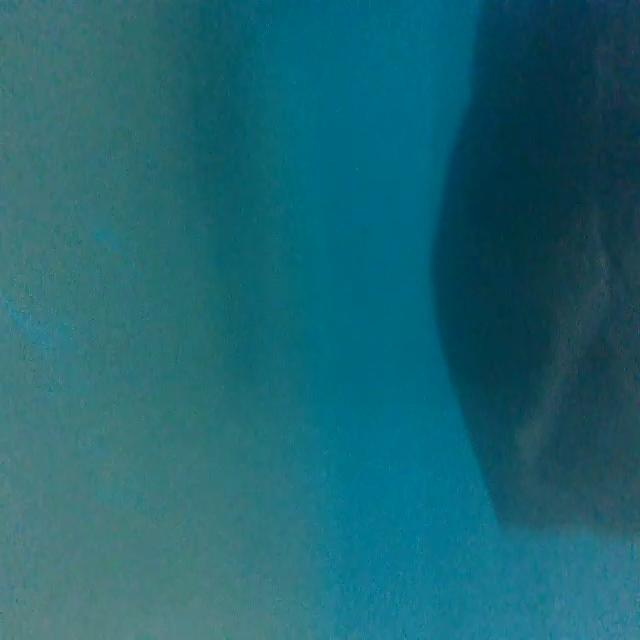plastic bags: (436, 0, 632, 532)
